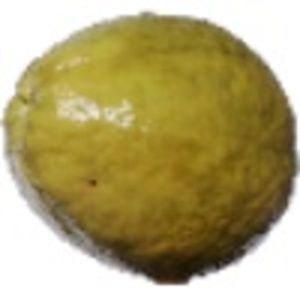goiaba: (1, 9, 297, 283)
